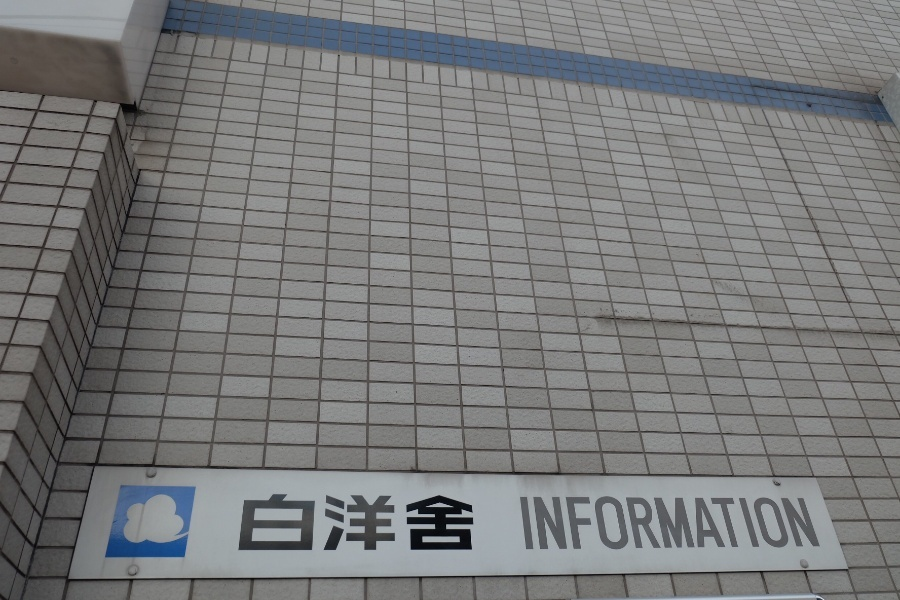text: (257, 490, 272, 552), (273, 490, 288, 552), (289, 490, 304, 552), (305, 490, 320, 552), (321, 490, 336, 552), (337, 490, 352, 552), (353, 490, 368, 552), (369, 490, 384, 552), (385, 490, 400, 552), (401, 490, 416, 552), (417, 490, 432, 552), (433, 490, 448, 552), (449, 490, 464, 552), (529, 499, 544, 552), (545, 499, 560, 552), (561, 499, 576, 552), (577, 499, 592, 552), (593, 499, 608, 552), (609, 499, 624, 552), (625, 499, 640, 552), (641, 499, 656, 552), (657, 499, 672, 552), (673, 499, 688, 552), (689, 499, 704, 552), (705, 499, 720, 552), (721, 499, 736, 552), (737, 499, 752, 552), (753, 499, 768, 552), (769, 499, 784, 552), (785, 499, 800, 552), (801, 499, 816, 552), (246, 490, 256, 552), (465, 490, 474, 552), (520, 499, 528, 552), (817, 499, 820, 552)
